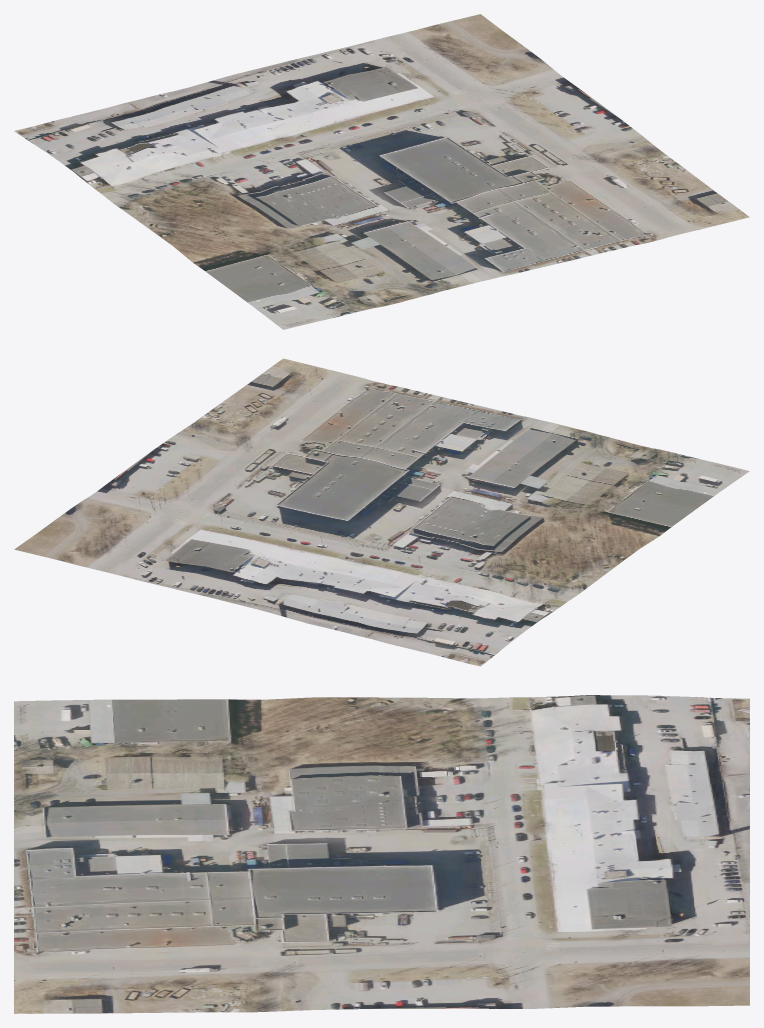
File: CM_Terrain_24488615_6818975.fbx
The picture shows the model from 3 angles, top to bottom: view 1: azimuth 30°, elevation 25°; view 2: azimuth 150°, elevation 25°; view 3: azimuth 270°, elevation 25°; orthographic projection. The views are drawn at different scales.
Parts seen in each view (by area): view 1: CM_Terrain_24488615_6818975_LOD0; view 2: CM_Terrain_24488615_6818975_LOD0; view 3: CM_Terrain_24488615_6818975_LOD0.
Boxes of the visible parts, x1=… form: CM_Terrain_24488615_6818975_LOD0: x1=14, y1=14, x2=749, y2=329; CM_Terrain_24488615_6818975_LOD0: x1=14, y1=358, x2=749, y2=666; CM_Terrain_24488615_6818975_LOD0: x1=14, y1=695, x2=749, y2=1013.
Size of what is drawn, in the model's own units: 205 by 5.14 by 205.
